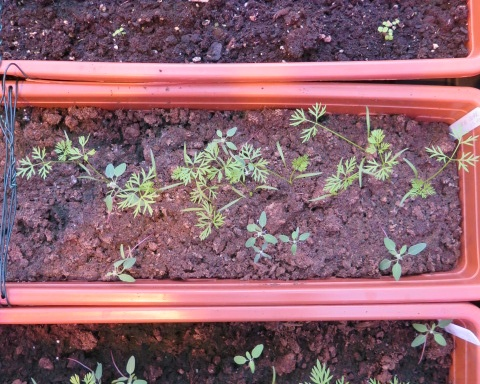crop: (292, 108, 396, 194), (129, 151, 228, 238), (395, 129, 479, 219), (233, 143, 322, 202), (19, 133, 96, 190)
weed: (376, 235, 429, 283), (107, 238, 156, 283), (412, 321, 451, 368), (108, 351, 150, 384), (230, 342, 266, 377), (244, 212, 277, 247), (102, 163, 126, 209), (279, 229, 311, 255), (211, 126, 239, 154), (253, 242, 274, 263), (111, 27, 126, 37), (378, 26, 388, 33), (384, 35, 394, 40), (392, 18, 400, 24)
